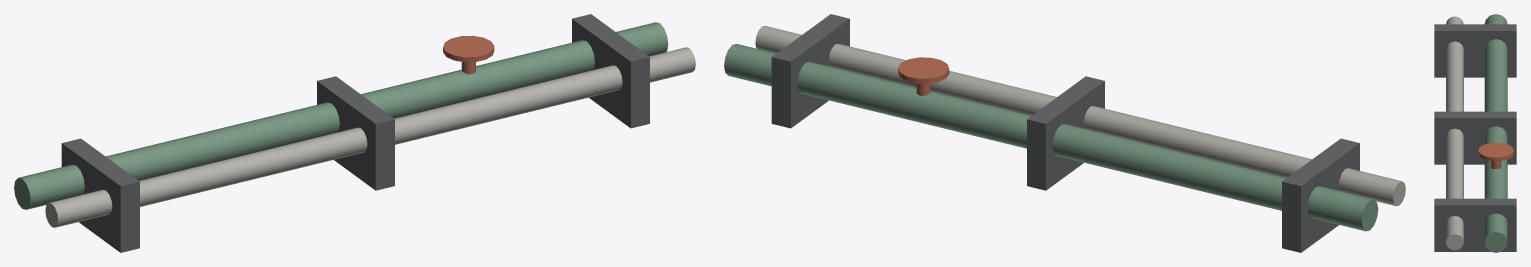
The model's file is pipeRun_steel.glb.
3 renders of one model, left to right at view 1: azimuth 30°, elevation 25°; view 2: azimuth 150°, elevation 25°; view 3: azimuth 270°, elevation 25°, orthographic. The views are drawn at different scales.
Visible parts, largest first — view 1: pipeRun_steel; view 2: pipeRun_steel; view 3: pipeRun_steel.
Part boxes in pixels (bbox=[...]): pipeRun_steel: bbox=[14, 14, 695, 252]; pipeRun_steel: bbox=[724, 14, 1405, 252]; pipeRun_steel: bbox=[1434, 14, 1516, 252].
Size of the model in its own units: 2 by 0.235 by 0.32.
